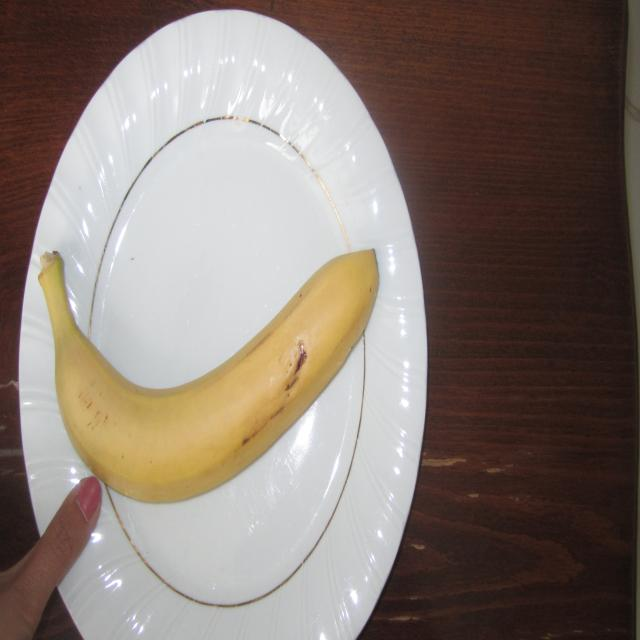orange: (282, 133, 479, 390)
tomato: (106, 204, 278, 446)
